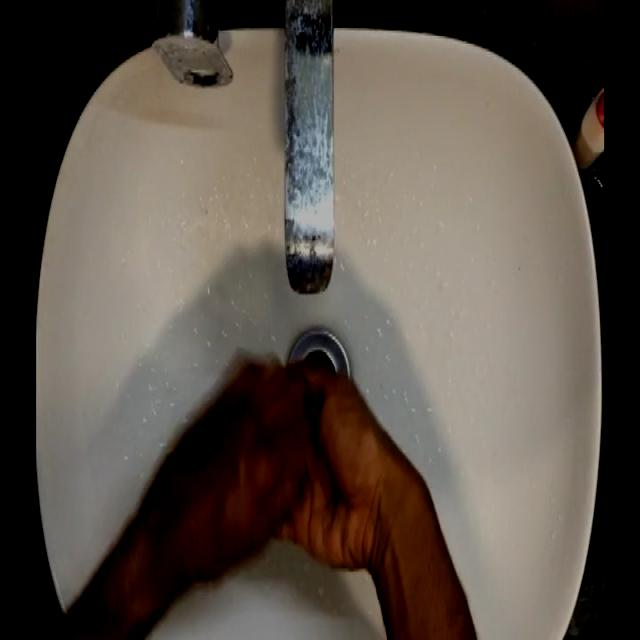step_4: (156, 347, 408, 573)
